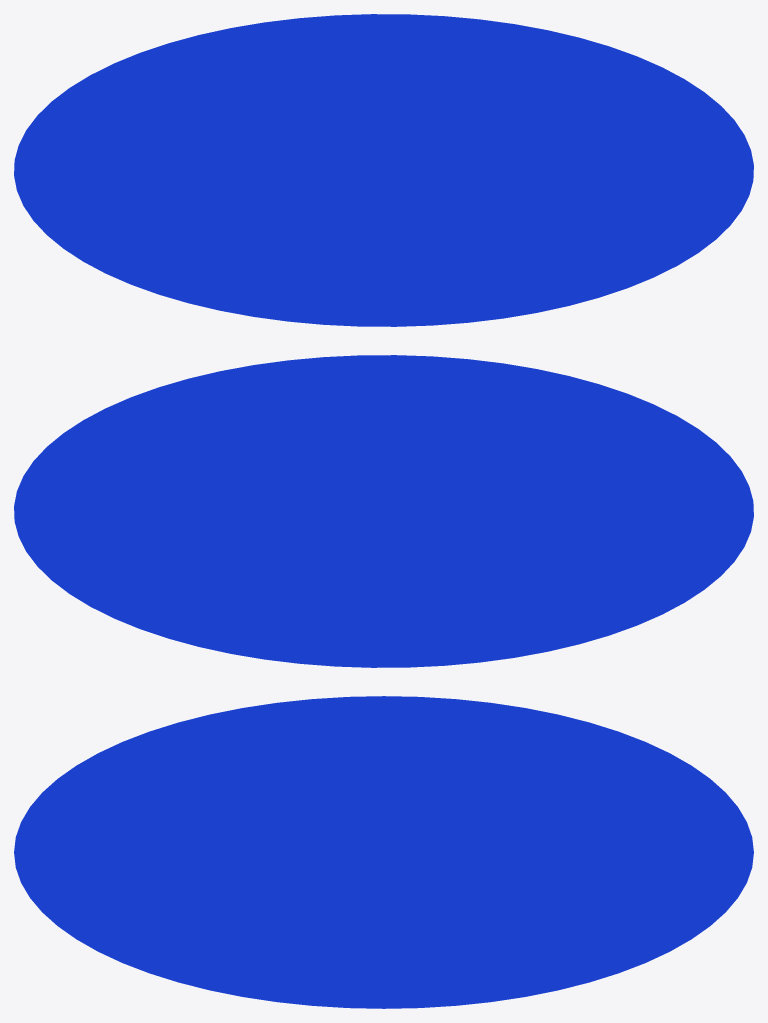
Rendered from sectors.fbx.
3 views of the same model, one above another, from view 1: azimuth 30°, elevation 25°; view 2: azimuth 150°, elevation 25°; view 3: azimuth 270°, elevation 25° (orthographic).
Parts seen in each view (by area): view 1: Circle.007, Circle.006, Circle.001, Circle.003, Circle.005, Circle.008, Circle.002, Circle.004, Circle.012, Circle.010, Circle.009, Circle.013 (+14 smaller); view 2: Circle.007, Circle.006, Circle.001, Circle.003, Circle.005, Circle.008, Circle.002, Circle.004, Circle.012, Circle.010, Circle.009, Circle.013 (+14 smaller); view 3: Circle.007, Circle.006, Circle.001, Circle.003, Circle.005, Circle.008, Circle.002, Circle.004, Circle.012, Circle.010, Circle.009, Circle.013 (+14 smaller).
Part boxes in pixels (left/top/right/bottom): Circle.007: left=32, top=22, right=300, bottom=149; Circle.006: left=14, top=122, right=215, bottom=248; Circle.001: left=470, top=27, right=734, bottom=146; Circle.003: left=474, top=208, right=729, bottom=315; Circle.005: left=64, top=224, right=327, bottom=319; Circle.008: left=265, top=14, right=530, bottom=87; Circle.002: left=562, top=120, right=753, bottom=225; Circle.004: left=271, top=247, right=519, bottom=326; Circle.012: left=298, top=214, right=526, bottom=271; Circle.010: left=148, top=110, right=279, bottom=211; Circle.009: left=209, top=67, right=411, bottom=129; Circle.013: left=465, top=161, right=614, bottom=239; Circle.007: left=140, top=586, right=461, bottom=667; Circle.006: left=438, top=550, right=703, bottom=664; Circle.001: left=14, top=408, right=235, bottom=529; Circle.003: left=324, top=355, right=613, bottom=430; Circle.005: left=577, top=478, right=753, bottom=589; Circle.008: left=16, top=524, right=252, bottom=628; Circle.002: left=106, top=357, right=361, bottom=440; Circle.004: left=526, top=389, right=745, bottom=488; Circle.012: left=434, top=417, right=615, bottom=504; Circle.010: left=346, top=551, right=567, bottom=611; Circle.009: left=159, top=539, right=361, bottom=610; Circle.013: left=262, top=410, right=451, bottom=467; Circle.007: left=518, top=747, right=753, bottom=882; Circle.006: left=370, top=696, right=657, bottom=785; Circle.001: left=312, top=922, right=603, bottom=1008; Circle.003: left=14, top=829, right=190, bottom=951; Circle.005: left=136, top=696, right=383, bottom=787; Circle.008: left=518, top=865, right=746, bottom=977; Circle.002: left=98, top=901, right=326, bottom=1005; Circle.004: left=18, top=737, right=226, bottom=838; Circle.012: left=139, top=779, right=308, bottom=869; Circle.010: left=392, top=754, right=601, bottom=834; Circle.009: left=494, top=817, right=623, bottom=913; Circle.013: left=154, top=865, right=326, bottom=938.
Size of the model in its own units: 425 by 6.92e-05 by 425.
